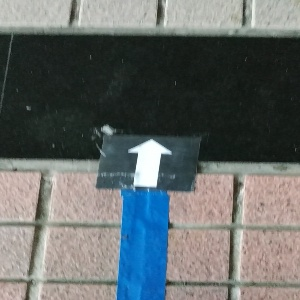straight: (95, 132, 200, 191)
